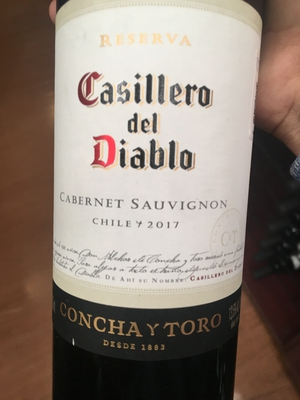casillero del diablo cabernet sauvignon: (50, 3, 265, 400)
